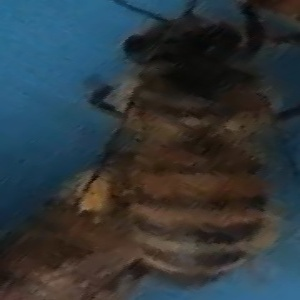bee: (92, 8, 293, 288)
